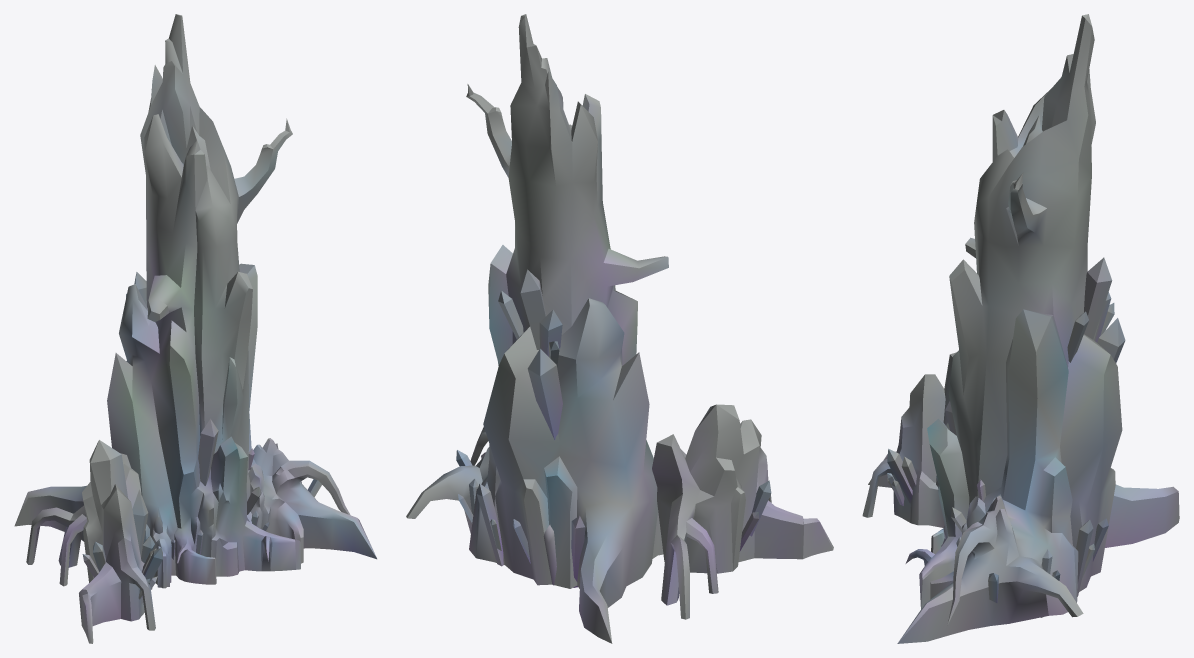
3 views of the same model, side by side, from view 1: azimuth 30°, elevation 25°; view 2: azimuth 150°, elevation 25°; view 3: azimuth 270°, elevation 25° (orthographic). The views are drawn at different scales.
Parts seen in each view (by area): view 1: G:\FFXIV-MapTools\exports\f1f3\bg\ffxiv\fst_f1\fld\f1f3\bgpa; view 2: G:\FFXIV-MapTools\exports\f1f3\bg\ffxiv\fst_f1\fld\f1f3\bgpa; view 3: G:\FFXIV-MapTools\exports\f1f3\bg\ffxiv\fst_f1\fld\f1f3\bgpa.
Boxes of the visible parts, left/top/right/bottom form: G:\FFXIV-MapTools\exports\f1f3\bg\ffxiv\fst_f1\fld\f1f3\bgpa: left=14, top=14, right=376, bottom=643; G:\FFXIV-MapTools\exports\f1f3\bg\ffxiv\fst_f1\fld\f1f3\bgpa: left=406, top=14, right=833, bottom=643; G:\FFXIV-MapTools\exports\f1f3\bg\ffxiv\fst_f1\fld\f1f3\bgpa: left=862, top=14, right=1179, bottom=643.
Size of the model in its own units: 11.51 by 18.76 by 9.45.
